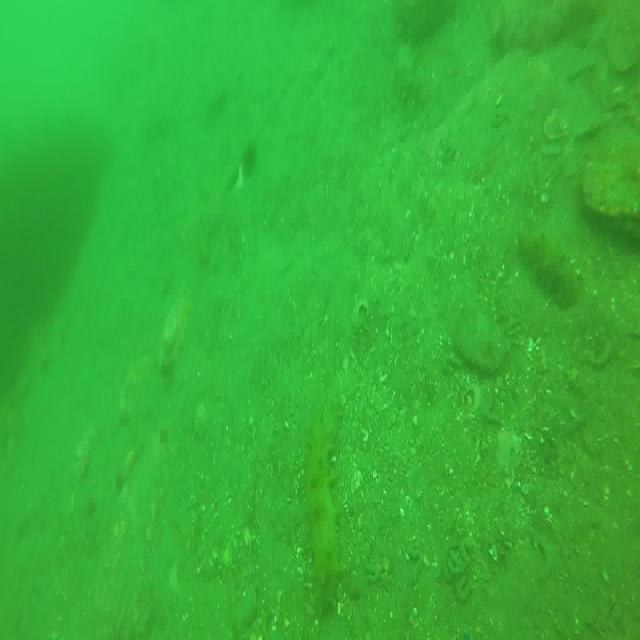echinus: (236, 140, 258, 182)
holothurian: (301, 418, 343, 612), (520, 225, 582, 312)
